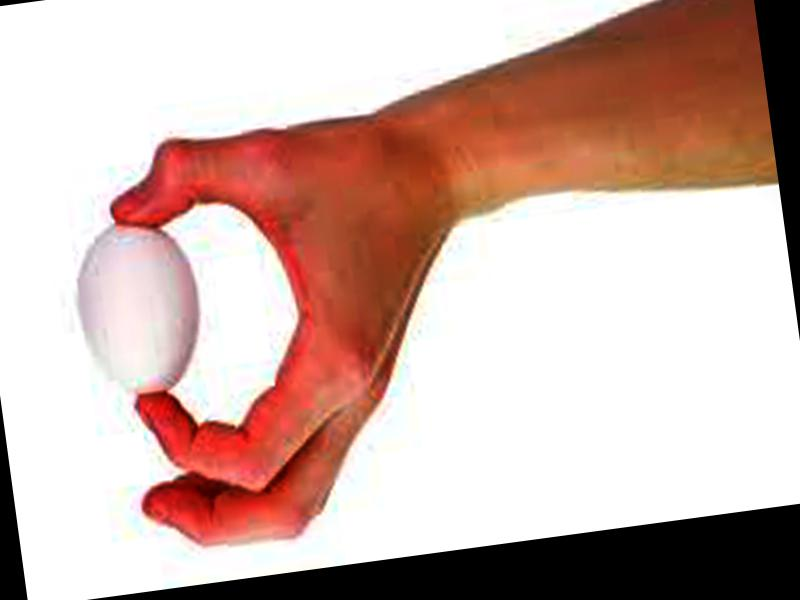Eggs: (67, 215, 209, 403)
